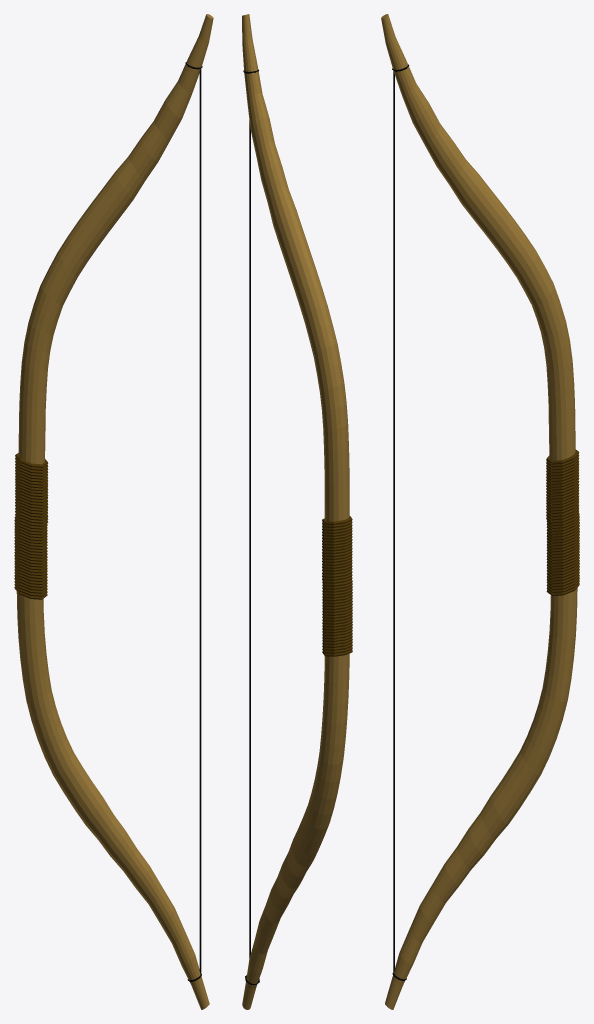
Rendered from Bow.fbx.
The picture shows the model from 3 angles, left to right: view 1: azimuth 90°, elevation 25°; view 2: azimuth 210°, elevation 25°; view 3: azimuth 270°, elevation 25°; orthographic projection.
Visible parts, largest first — view 1: Bow, Torus.004, String; view 2: Bow, Torus.004, String; view 3: Bow, Torus.004, String.
Boxes of the visible parts, x1,y1,x2,y2 form: Bow: [16, 14, 213, 1009]; Torus.004: [14, 453, 48, 599]; String: [185, 62, 202, 981]; Bow: [242, 14, 349, 1009]; Torus.004: [322, 516, 352, 656]; String: [243, 69, 259, 984]; Bow: [381, 14, 577, 1009]; Torus.004: [546, 449, 579, 595]; String: [392, 64, 409, 980].
Bounding box in the file's own units: 23.64 × 741 × 134.
